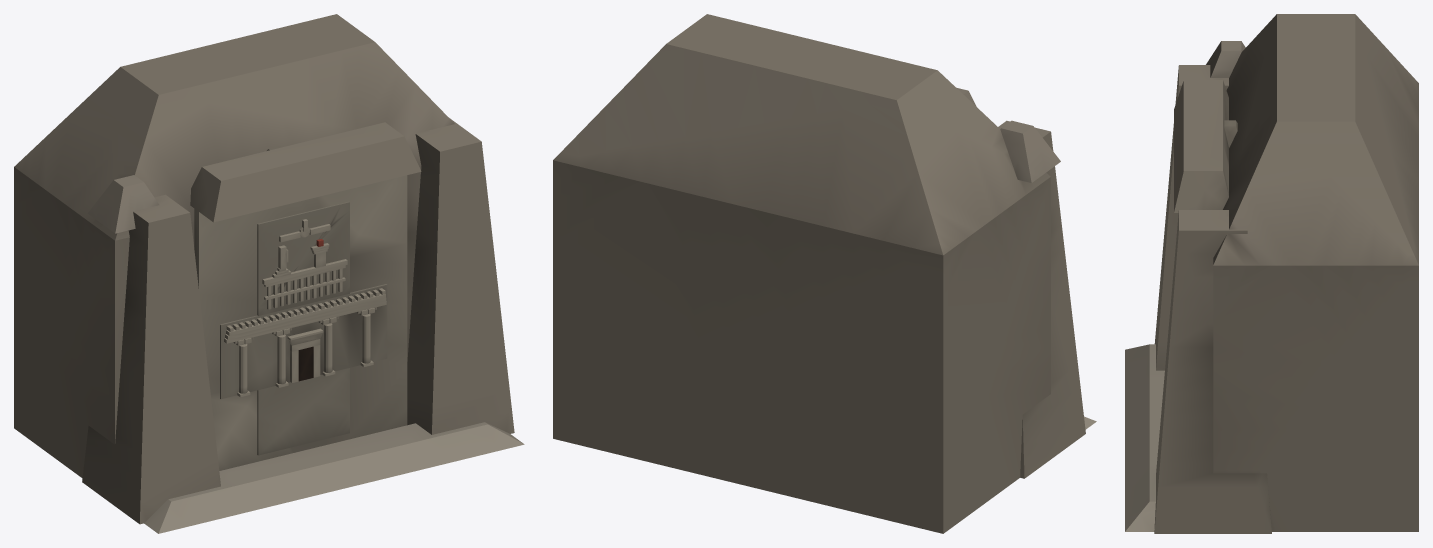
Rendered from royal-tomb.glb.
The picture shows the model from 3 angles, left to right: view 1: azimuth 30°, elevation 25°; view 2: azimuth 150°, elevation 25°; view 3: azimuth 270°, elevation 25°; orthographic projection. The views are drawn at different scales.
Parts seen in each view (by area): view 1: p0_rock, p1_facade; view 2: p0_rock; view 3: p0_rock.
Boxes of the visible parts, <box> form: p0_rock: <box>14,14,524,533</box>; p1_facade: <box>220,201,387,455</box>; p0_rock: <box>553,14,1096,533</box>; p0_rock: <box>1125,14,1418,533</box>.
Size of the model in its own units: 45.07 by 42 by 30.
